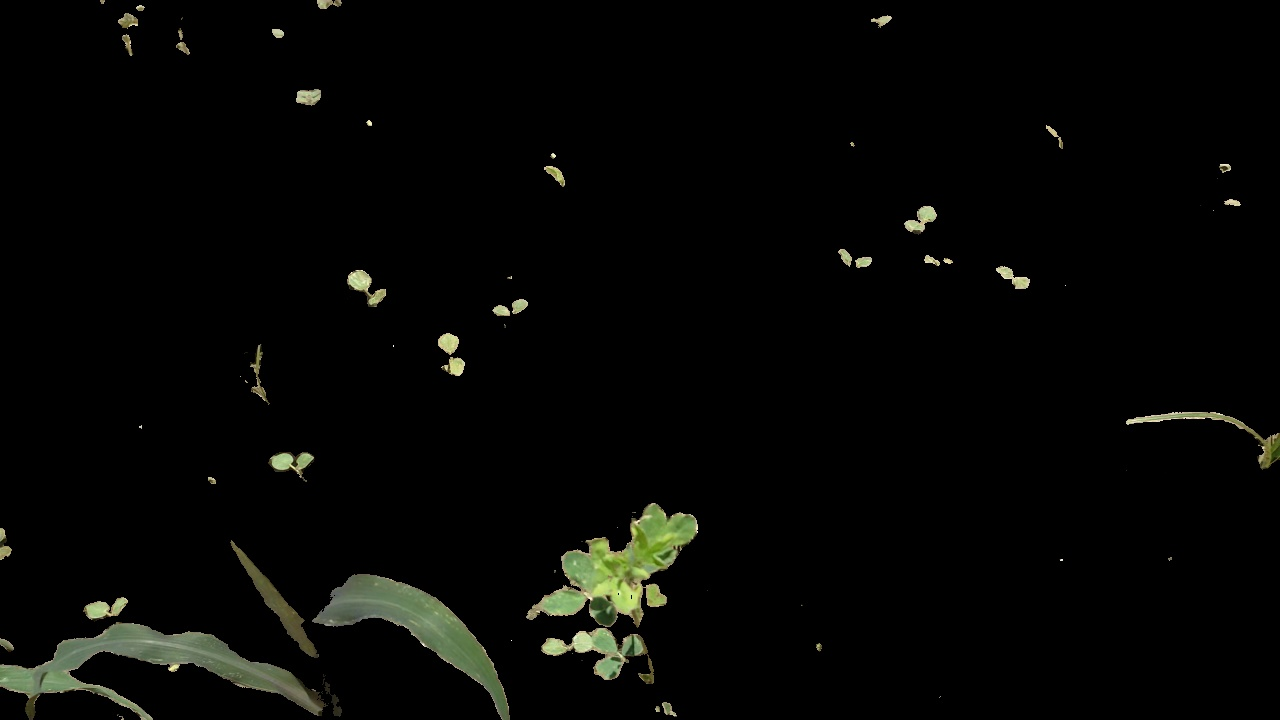crop: (223, 533, 515, 720), (1, 623, 319, 720)
weed: (529, 496, 701, 714), (1118, 364, 1280, 490), (228, 337, 277, 407), (341, 259, 390, 309), (426, 321, 469, 377), (265, 448, 317, 483), (74, 594, 136, 619), (488, 292, 538, 322), (996, 259, 1031, 296), (904, 204, 940, 235), (836, 248, 877, 272)
